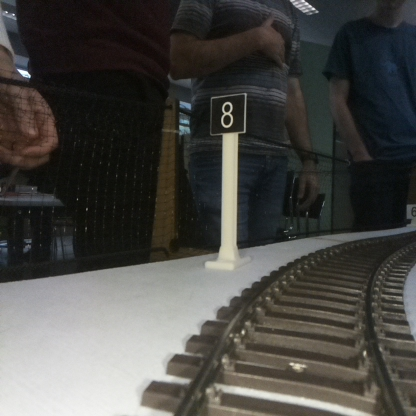black-info-8: (211, 94, 244, 266)
